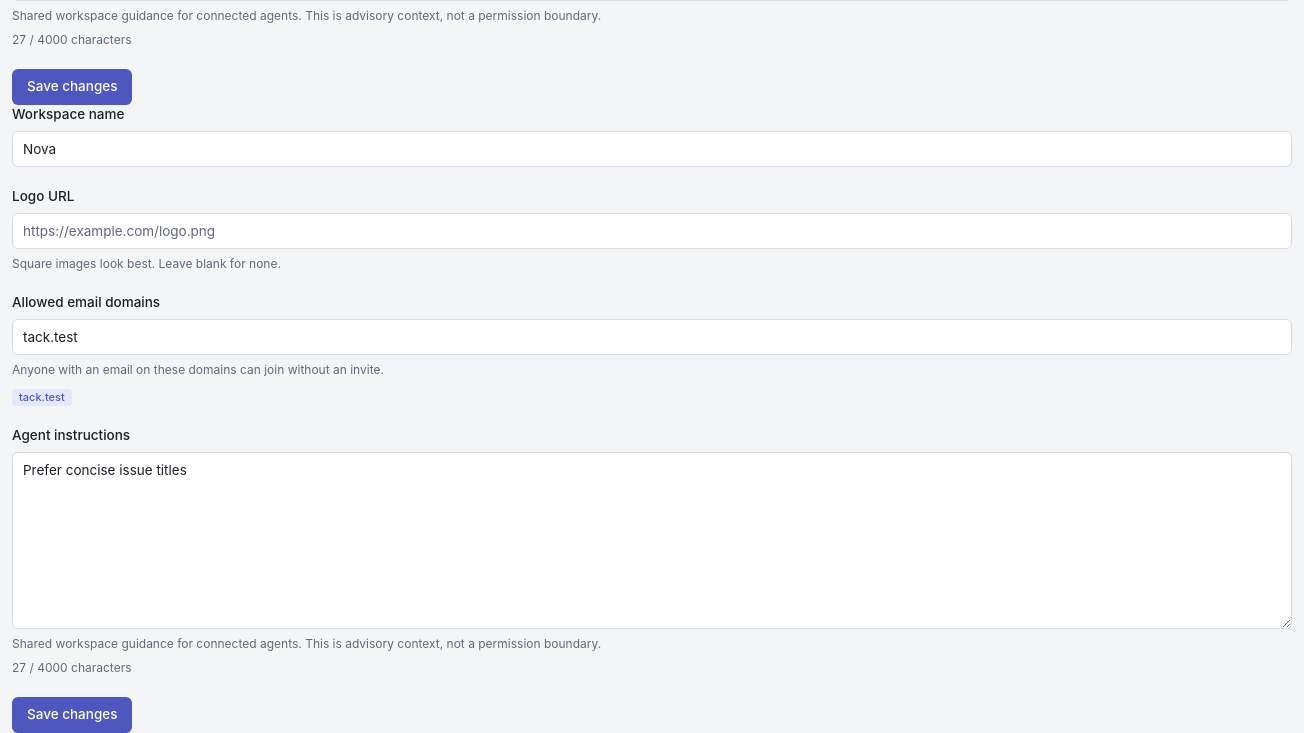
Test: GeneralForm agent instructions › reports a conflict when two administrators edit the same instructions version
(page scrolled)
Replace the text in the text box named "Agent instructions" with "Use ENG for engineering issues": point(652, 540) [12, 452, 1292, 629]
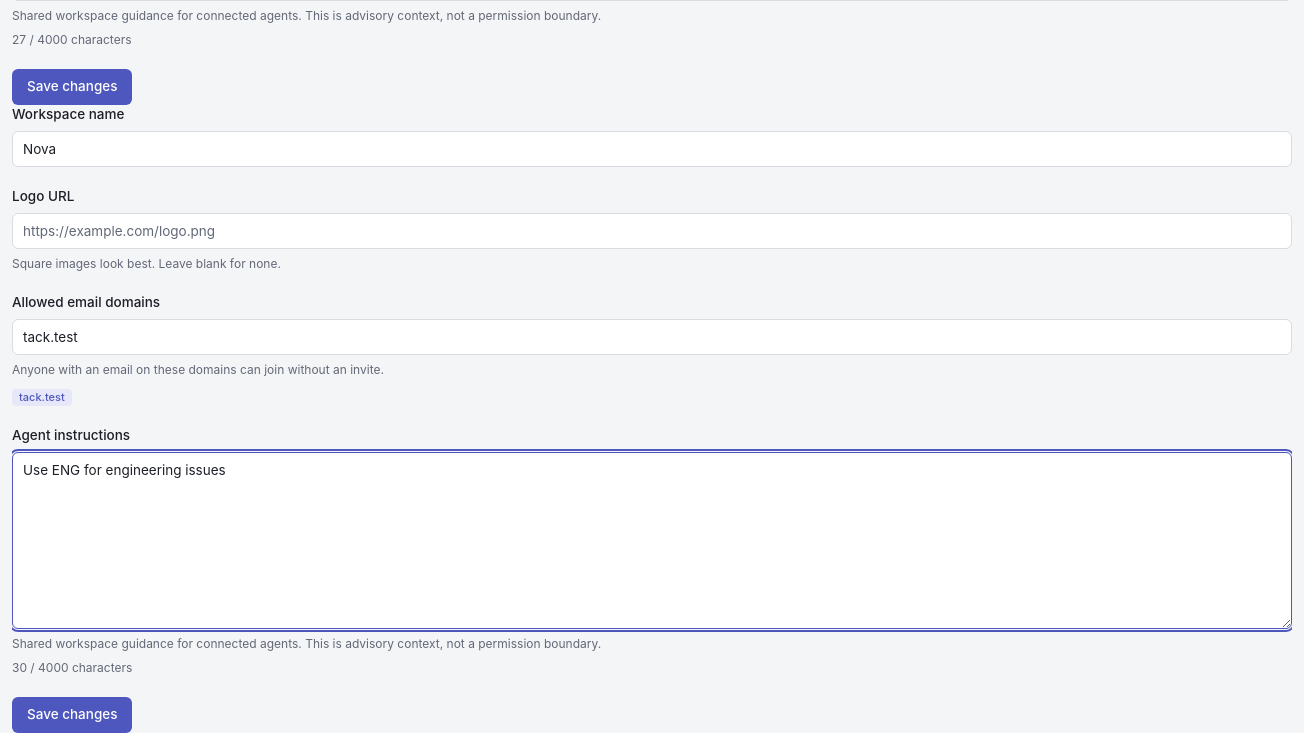
Click the button "Save changes" below "30": point(72, 715) [12, 697, 132, 732]
(page scrolled)
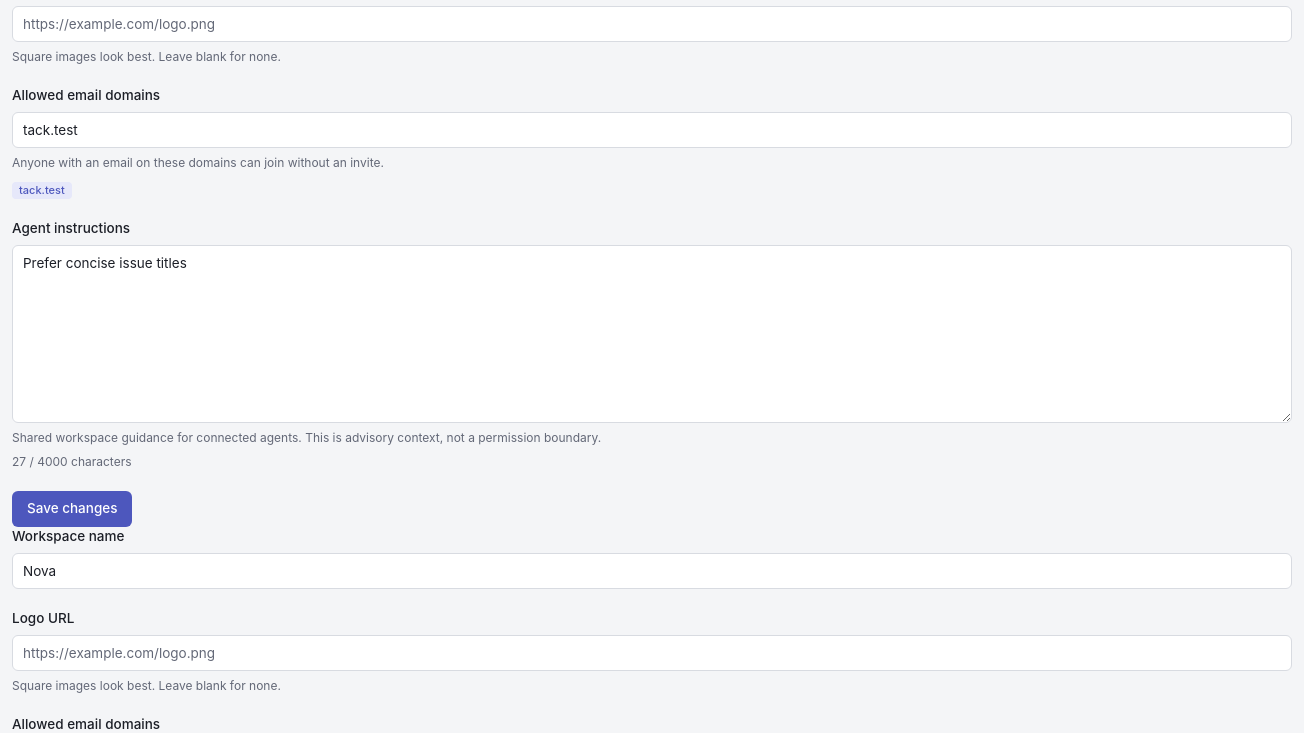
Replace the text in the text box labelled "Agent instructions" with "Use DESIGN for every issue": point(652, 334) [12, 245, 1292, 423]
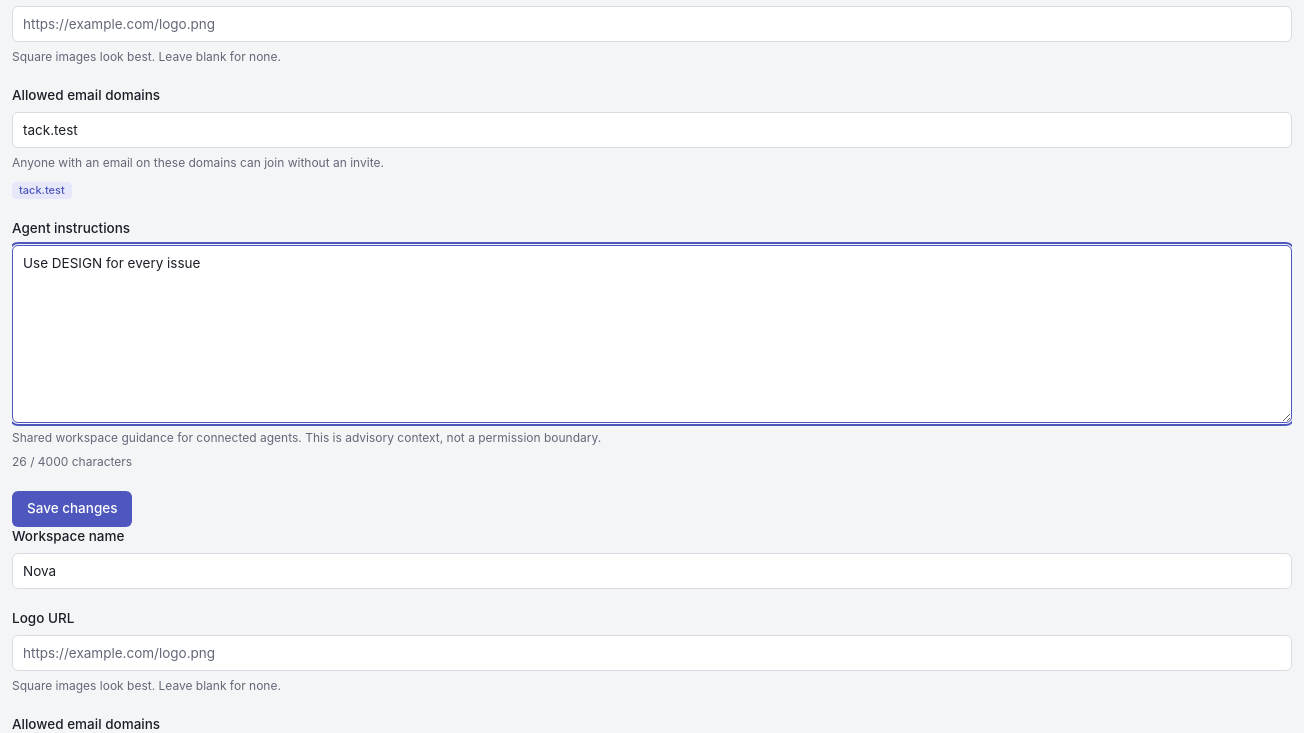
Click the button "Save changes": point(72, 509) [12, 491, 132, 527]
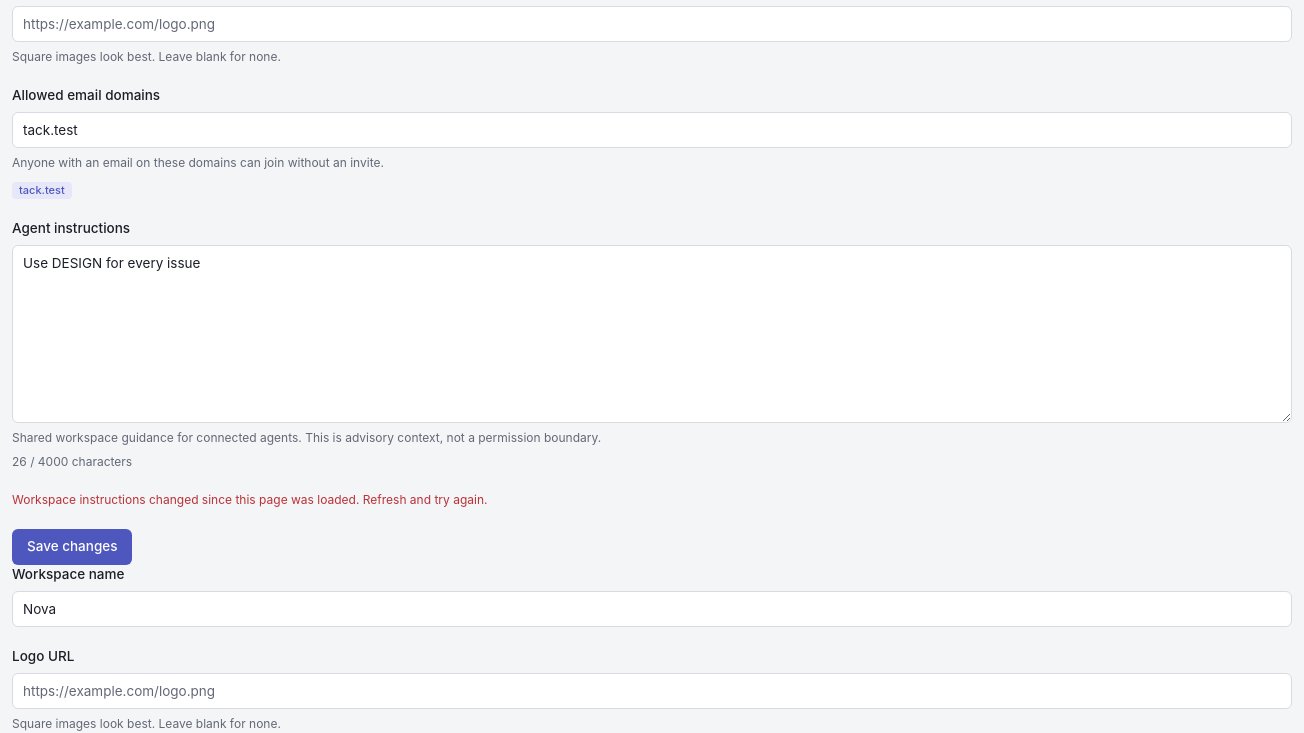
Now the message shows "Workspace instructions changed since this page was loaded. Refresh and try again.", box [12, 492, 488, 507]
